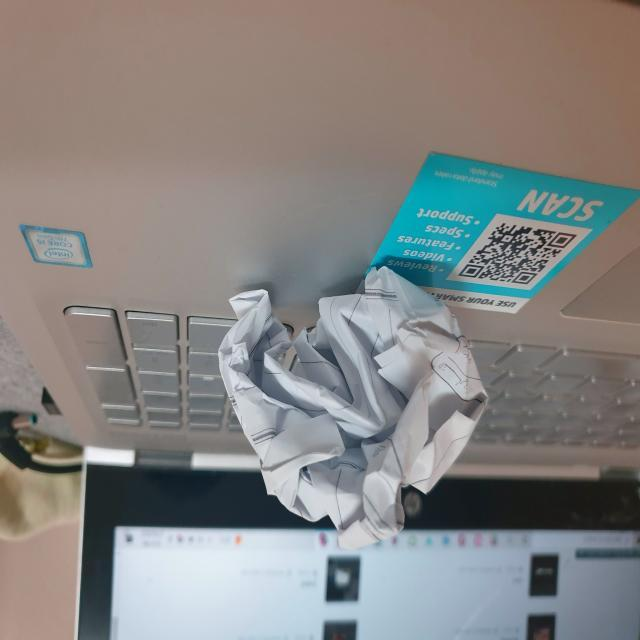Paper: (209, 269, 481, 540)
